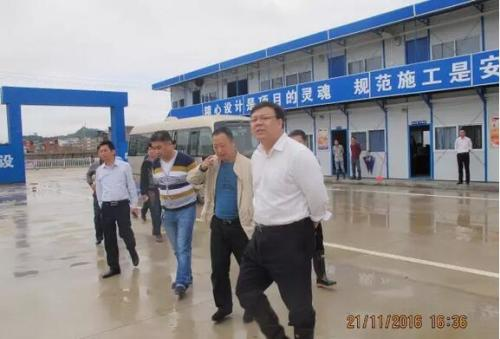boots: (211, 307, 232, 321), (102, 269, 121, 278), (243, 308, 254, 322), (317, 277, 336, 285), (130, 251, 139, 266), (175, 285, 186, 295)
person: (235, 101, 332, 339), (186, 127, 256, 323), (149, 129, 199, 297), (94, 139, 140, 278)
